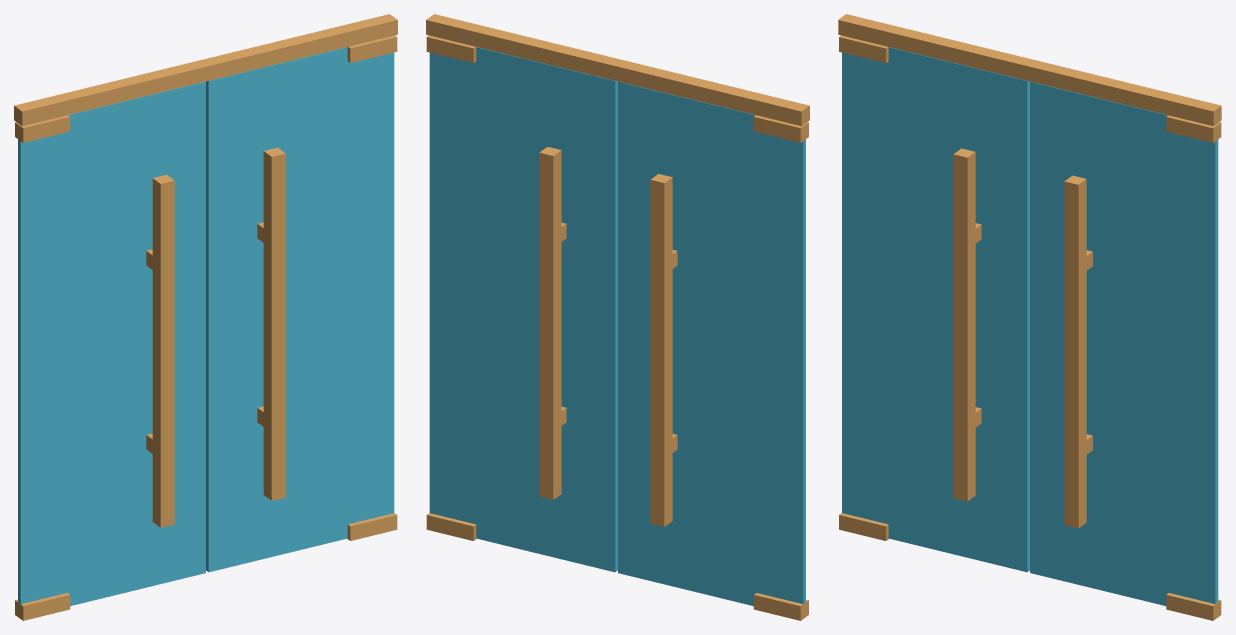
The model's file is Glass Door.fbx.
3 views of the same model, side by side, from view 1: azimuth 30°, elevation 25°; view 2: azimuth 150°, elevation 25°; view 3: azimuth 330°, elevation 25° (orthographic).
Parts seen in each view (by area): view 1: Side2, Side1, Balk; view 2: Side2, Side1, Balk; view 3: Side2, Side1, Balk.
Boxes of the visible parts, bbox=[...] form: Side2: bbox=[206, 35, 397, 572]; Side1: bbox=[15, 81, 205, 620]; Balk: bbox=[14, 14, 397, 126]; Side2: bbox=[426, 35, 617, 572]; Side1: bbox=[618, 81, 808, 620]; Balk: bbox=[426, 14, 809, 126]; Side2: bbox=[1030, 81, 1221, 620]; Side1: bbox=[839, 35, 1029, 572]; Balk: bbox=[838, 14, 1221, 126].
Bounding box in the file's own units: 160 × 207 × 22.22.
